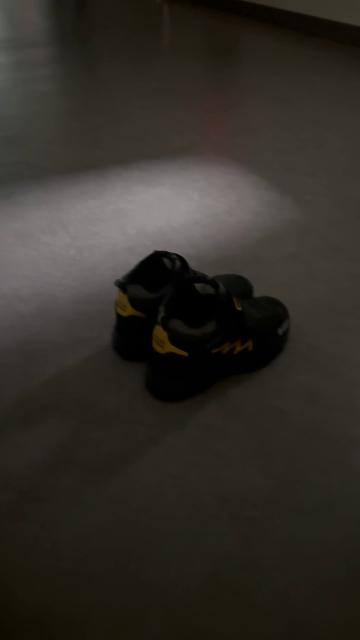shoe_worn: (139, 292, 292, 408), (107, 249, 255, 366)
